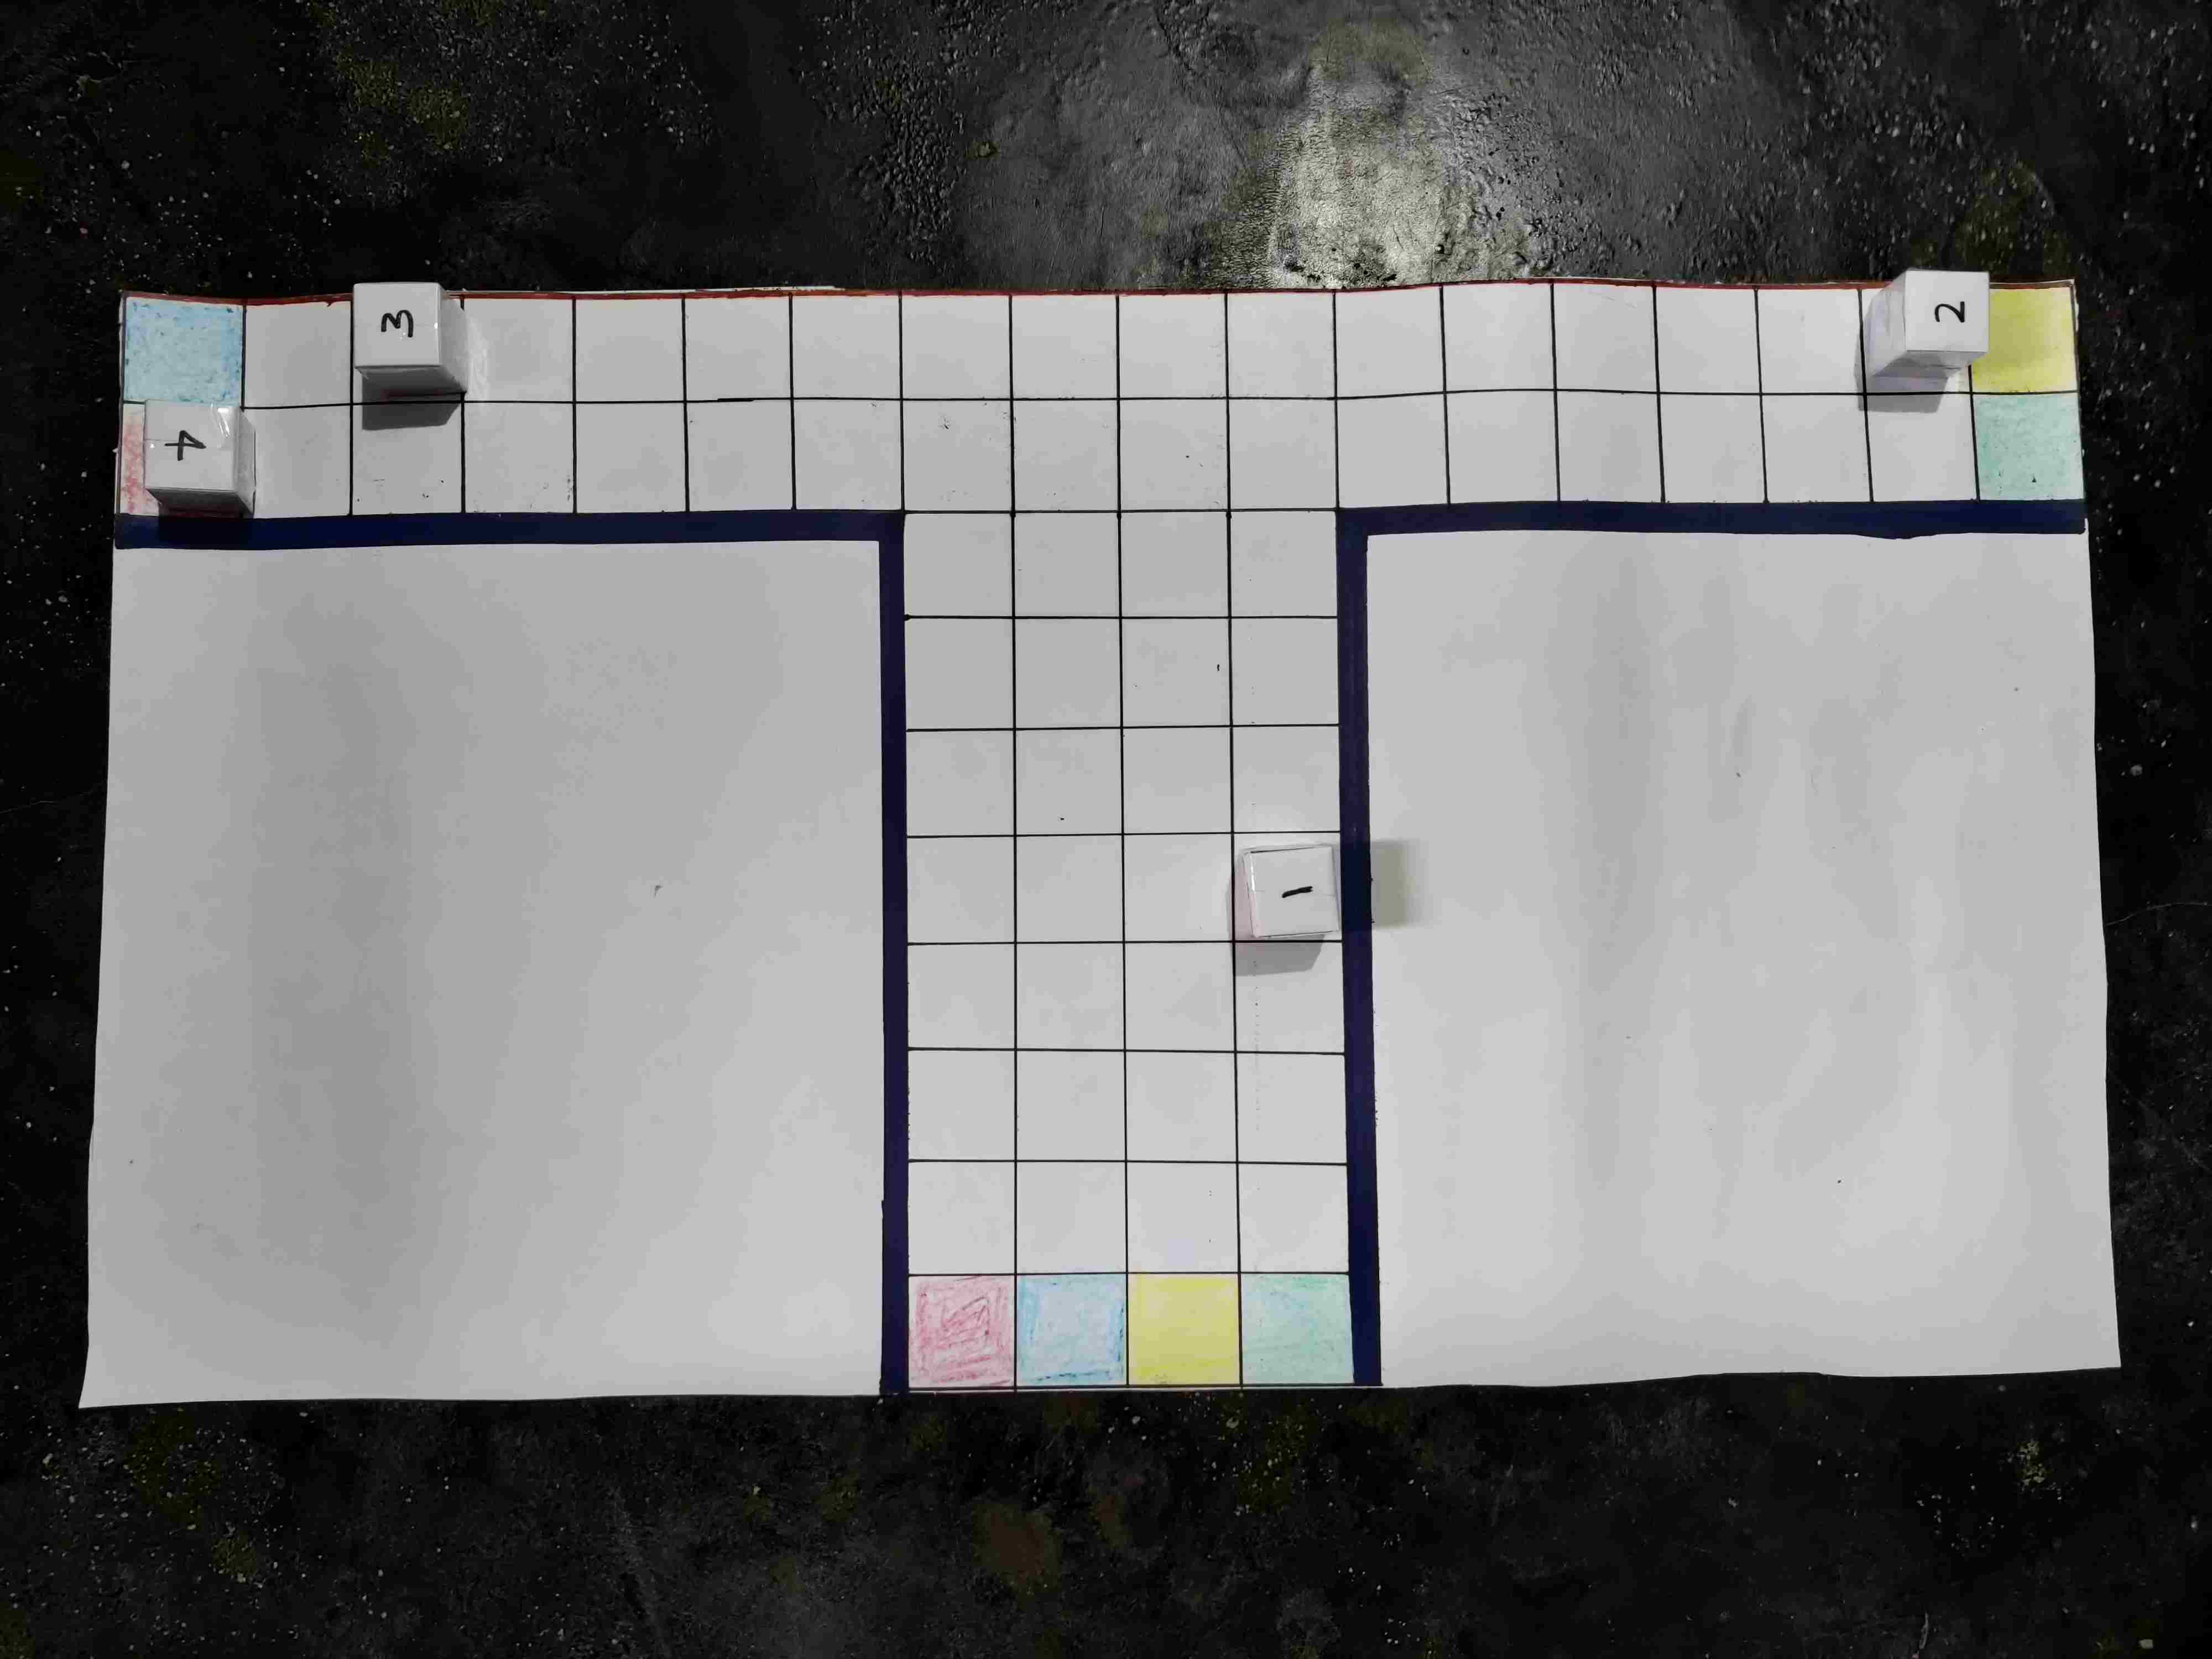arena: (146, 295, 2088, 1412)
bot: (977, 1068, 1068, 1157), (1301, 1192, 1390, 1277), (1085, 1176, 1174, 1256), (864, 971, 942, 1058)
